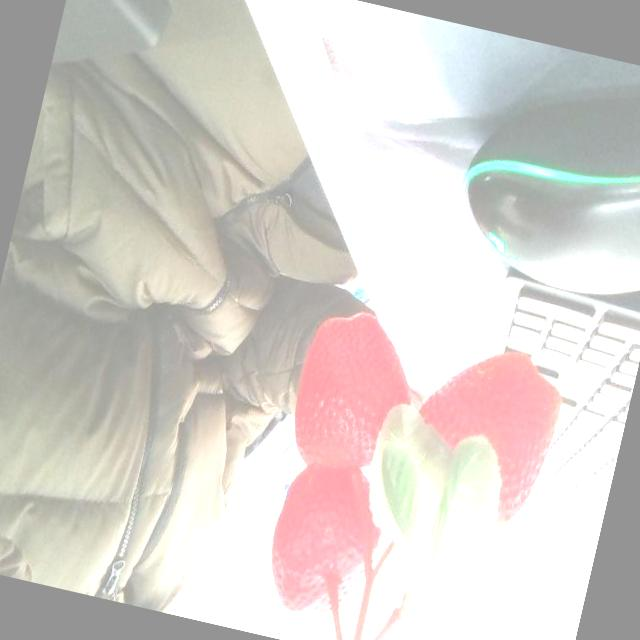Strawberry: (395, 332, 572, 550), (280, 301, 428, 491), (254, 456, 395, 640)
